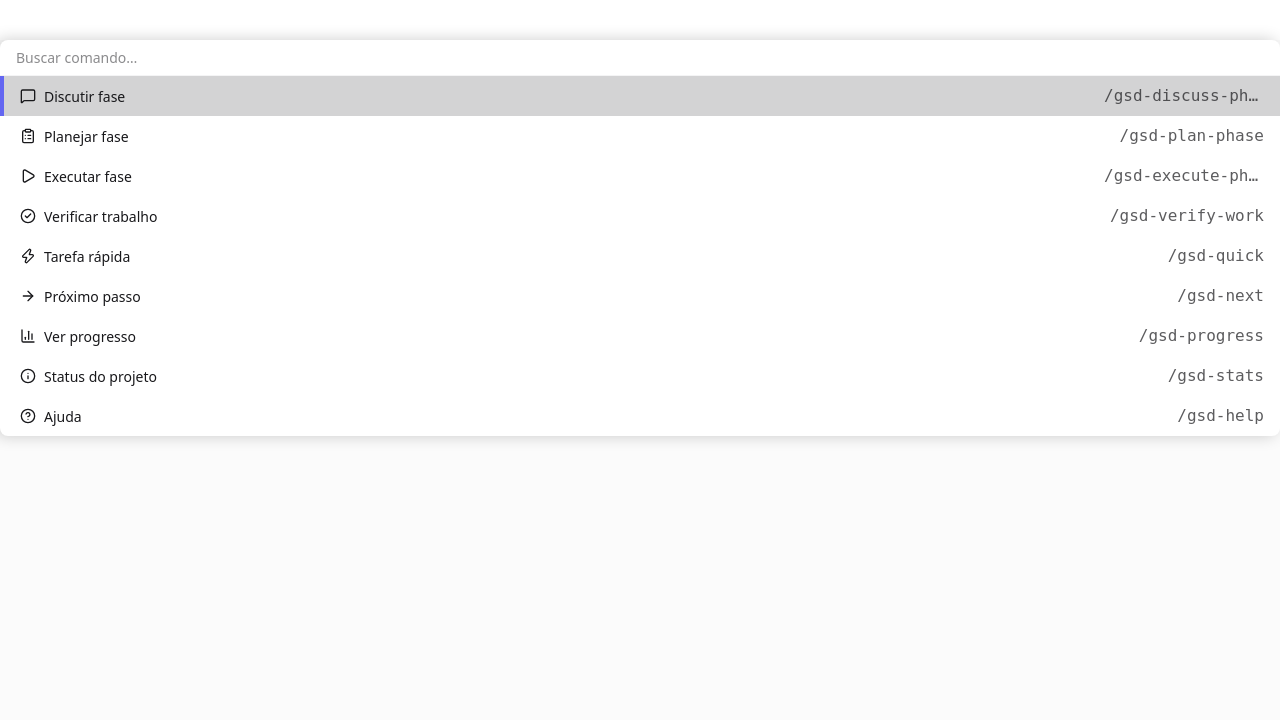
it: CommandPalette — filtro (ACT-04) › filtra por substring do label (case-insensitive)
Type "ajuda" into the field with placeholder "Buscar comando…".
click(640, 58); type("ajuda")  # box [0,40,1279,76]
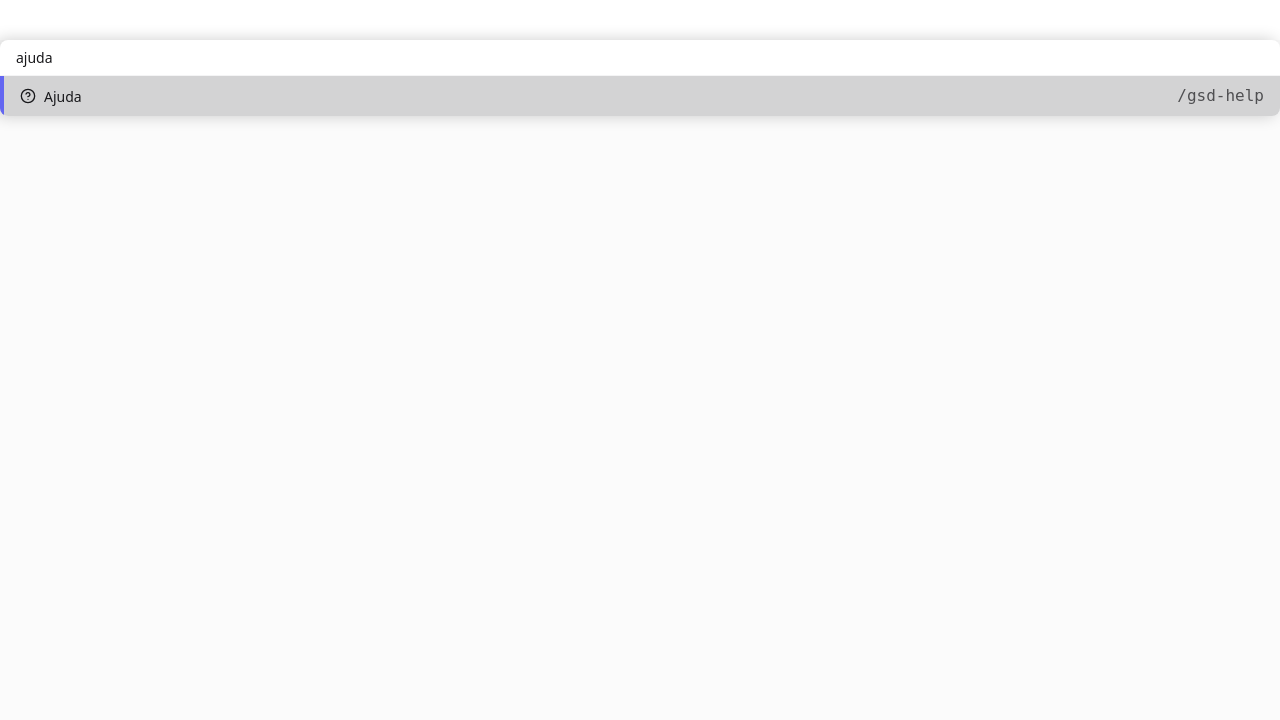
Expected: the button "Ajuda /gsd-help" is shown, [0,76,1279,116]
Now the button "Discutir fase" is gone
